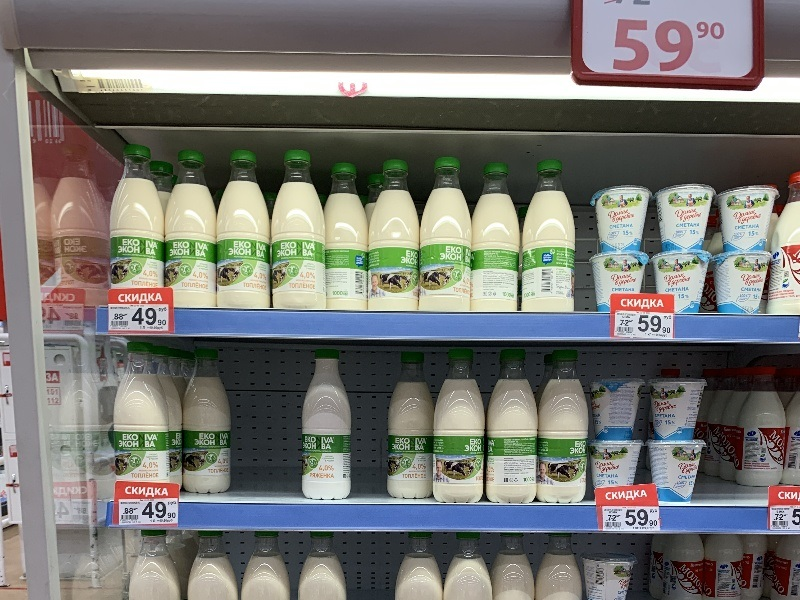milk: (210, 150, 281, 314), (267, 147, 330, 318), (161, 151, 229, 308), (365, 155, 430, 317), (105, 142, 176, 289), (427, 344, 491, 503), (174, 346, 240, 500), (518, 155, 579, 318), (298, 348, 360, 505), (466, 159, 528, 315), (418, 155, 476, 315), (111, 340, 171, 487), (384, 347, 440, 501), (489, 347, 542, 508), (540, 346, 590, 510), (736, 363, 792, 489)
